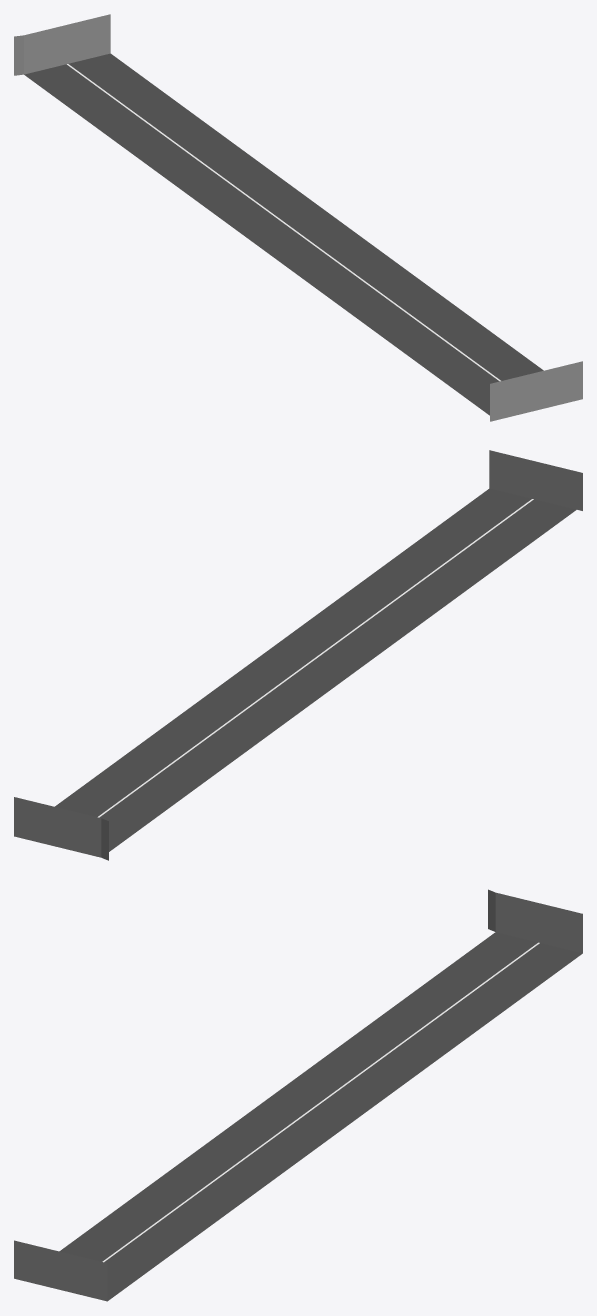
File: Two_Way_Road_Final.fbx
3 views of the same model, one above another, from view 1: azimuth 30°, elevation 25°; view 2: azimuth 150°, elevation 25°; view 3: azimuth 330°, elevation 25° (orthographic).
Visible parts, largest first — view 1: TwoWay_Road; view 2: TwoWay_Road; view 3: TwoWay_Road.
Boxes of the visible parts, x1=… form: TwoWay_Road: x1=14, y1=14, x2=582, y2=421; TwoWay_Road: x1=14, y1=450, x2=582, y2=860; TwoWay_Road: x1=14, y1=889, x2=582, y2=1301.
Size of the model in its own units: 2523 by 993 by 21676.
1 material, 1 textured.
